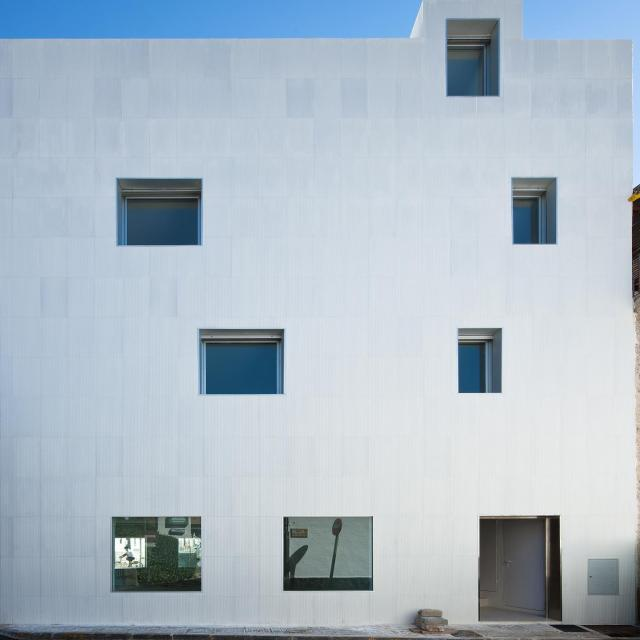door: (498, 517, 551, 614)
window: (112, 516, 204, 590), (288, 519, 375, 589), (127, 197, 200, 246), (209, 343, 279, 393), (449, 45, 486, 95), (512, 193, 540, 246), (458, 341, 486, 393)
